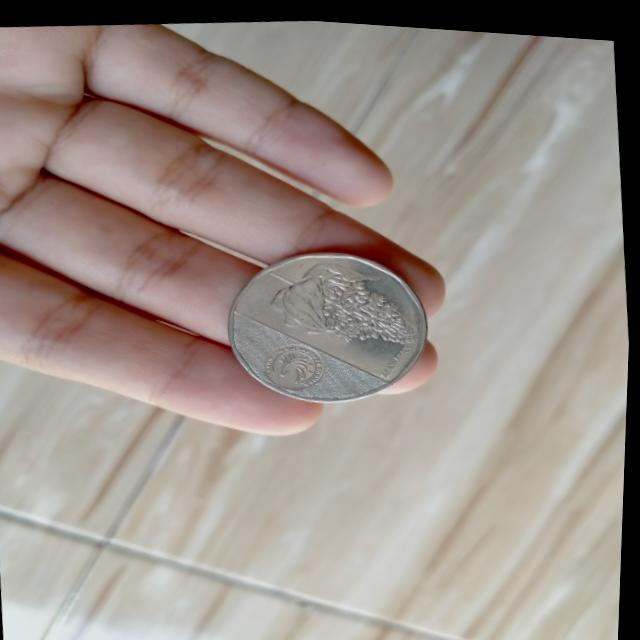10_New_Back: (258, 242, 427, 354)
